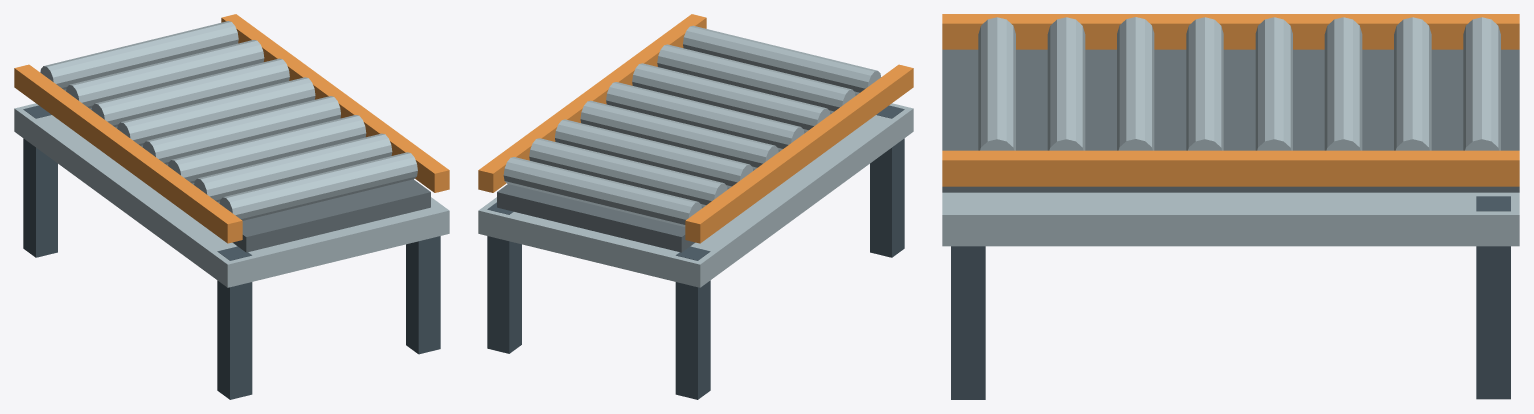
Rendered from free-roller-conveyor.glb.
3 renders of one model, left to right at view 1: azimuth 30°, elevation 25°; view 2: azimuth 150°, elevation 25°; view 3: azimuth 270°, elevation 25°, orthographic. The views are drawn at different scales.
Visible parts, largest first — view 1: steel, orange, dark, rubber; view 2: steel, dark, orange, rubber; view 3: steel, orange, rubber, dark.
Boxes of the visible parts, left/top/right/bottom form: steel: left=14, top=21, right=449, bottom=287; orange: left=14, top=14, right=449, bottom=243; dark: left=23, top=105, right=440, bottom=399; rubber: left=64, top=89, right=430, bottom=252; steel: left=478, top=25, right=913, bottom=287; dark: left=487, top=105, right=904, bottom=399; orange: left=478, top=14, right=913, bottom=243; rubber: left=497, top=94, right=857, bottom=252; steel: left=942, top=17, right=1519, bottom=246; orange: left=942, top=14, right=1519, bottom=186; rubber: left=942, top=49, right=1519, bottom=192; dark: left=951, top=196, right=1510, bottom=399.
Bounding box in the file's own units: 1.2 × 0.965 × 2.
